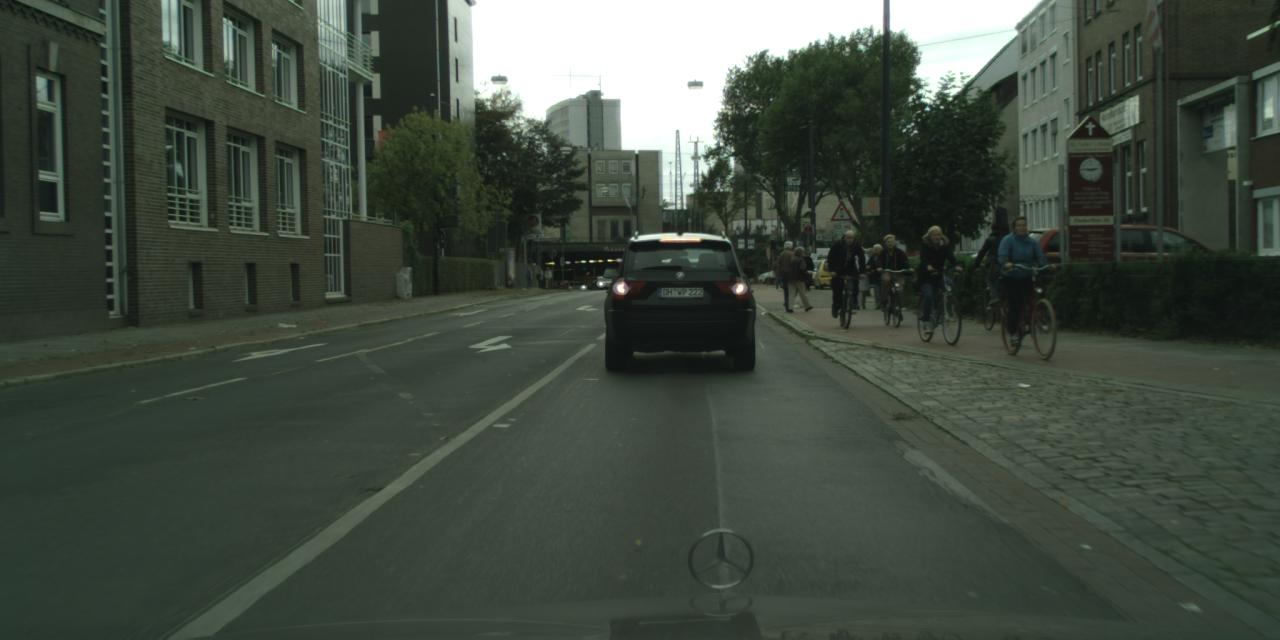ped: (978, 207, 1023, 315), (998, 216, 1042, 326), (915, 225, 954, 322), (831, 229, 865, 312), (873, 233, 906, 314), (785, 246, 812, 311), (858, 244, 884, 310), (773, 240, 794, 312), (804, 250, 815, 291), (536, 267, 552, 289), (524, 267, 532, 289)
